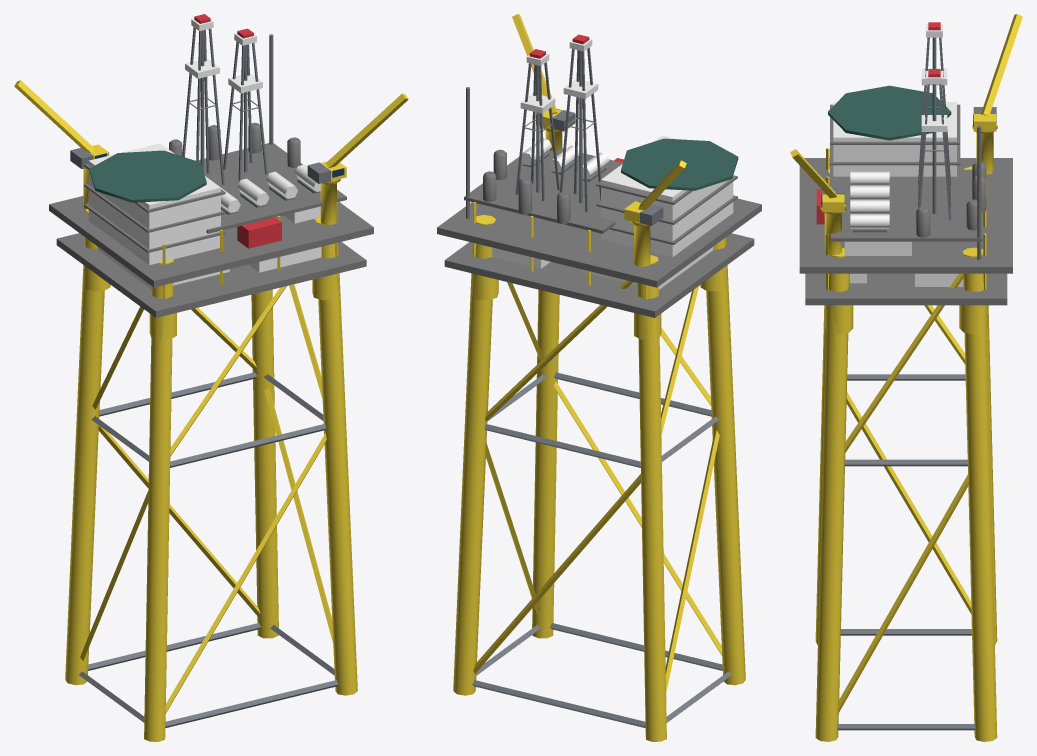
File: top-prebuilt_far.fbx
The picture shows the model from 3 angles, left to right: view 1: azimuth 30°, elevation 25°; view 2: azimuth 150°, elevation 25°; view 3: azimuth 270°, elevation 25°; orthographic projection.
Visible parts, largest first — view 1: a1072/0/top-prebuilt_far; view 2: a1072/0/top-prebuilt_far; view 3: a1072/0/top-prebuilt_far.
Boxes of the visible parts, <box> form: a1072/0/top-prebuilt_far: <box>14,14,408,741</box>; a1072/0/top-prebuilt_far: <box>437,14,761,741</box>; a1072/0/top-prebuilt_far: <box>790,14,1022,741</box>.
Bounding box in the file's own units: 59.07 × 131 × 41.49.
